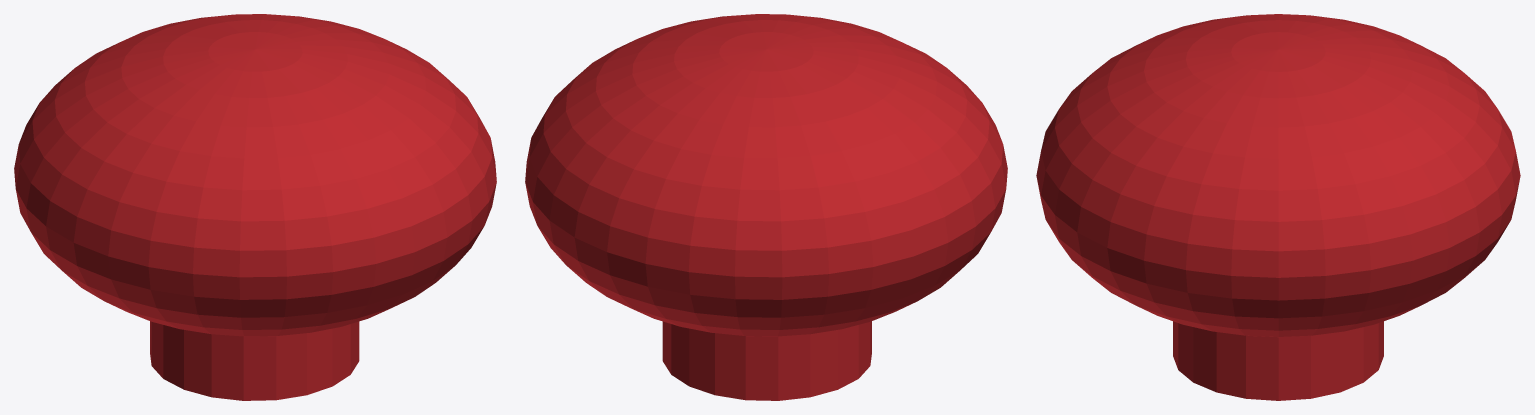
3 views of the same model, side by side, from view 1: azimuth 30°, elevation 25°; view 2: azimuth 150°, elevation 25°; view 3: azimuth 270°, elevation 25° (orthographic).
Visible parts, largest first — view 1: Cylinder.col.010; view 2: Cylinder.col.010; view 3: Cylinder.col.010.
Part boxes in pixels (x1=…): Cylinder.col.010: x1=14, y1=14, x2=496, y2=400; Cylinder.col.010: x1=525, y1=14, x2=1007, y2=400; Cylinder.col.010: x1=1036, y1=14, x2=1520, y2=400.
Bounding box in the file's own units: 4.6 × 4.6 × 3.22.
